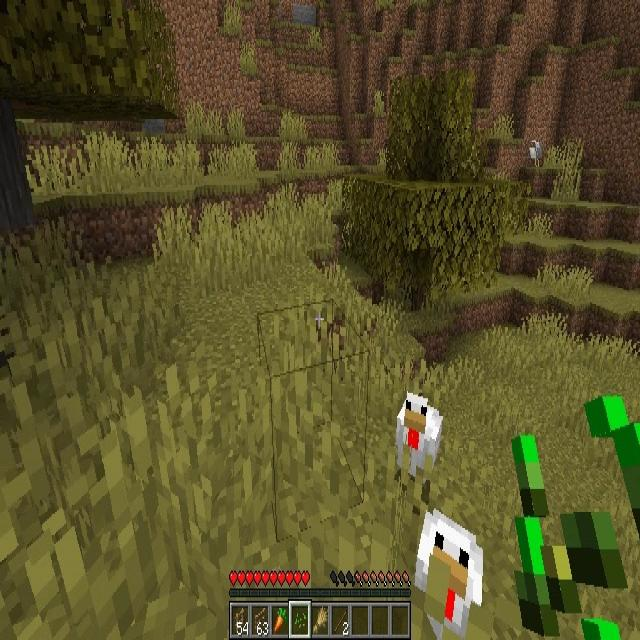duck: (416, 510, 484, 630), (396, 394, 442, 473), (529, 142, 542, 167)
